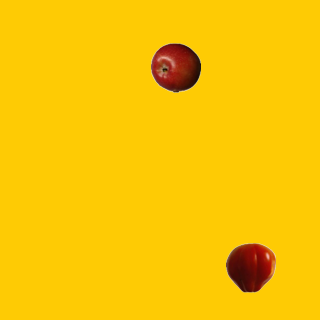Apple Braeburn: (150, 42, 200, 92)
Tomato 1: (225, 242, 275, 292)
